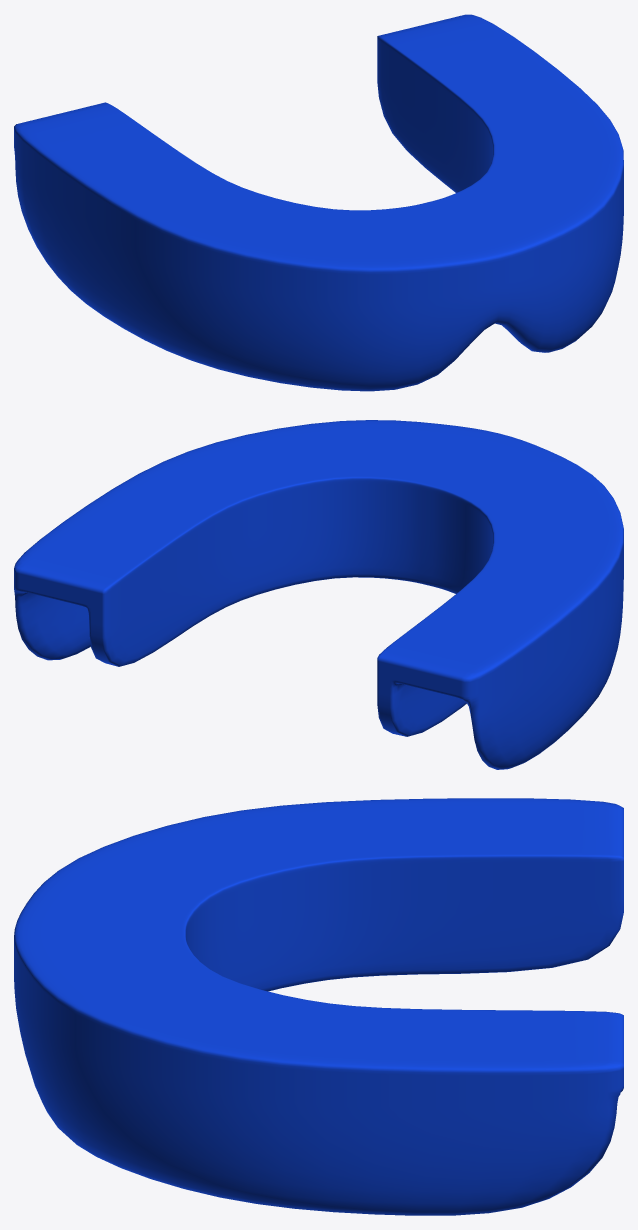
File: capa.glb
3 views of the same model, one above another, from view 1: azimuth 30°, elevation 25°; view 2: azimuth 150°, elevation 25°; view 3: azimuth 270°, elevation 25° (orthographic). The views are drawn at different scales.
Visible parts, largest first — view 1: 16934_athletic_mouthguard; view 2: 16934_athletic_mouthguard; view 3: 16934_athletic_mouthguard.
Part boxes in pixels (x1,y1,x2,y2): 16934_athletic_mouthguard: (14, 14, 623, 391); 16934_athletic_mouthguard: (14, 420, 623, 769); 16934_athletic_mouthguard: (14, 798, 623, 1215).
Size of the model in its own units: 7.16 by 1.91 by 6.77.
